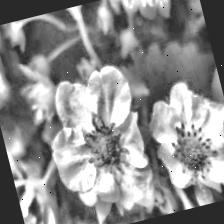Blossom Blight: (163, 114, 224, 188), (76, 108, 136, 179)
